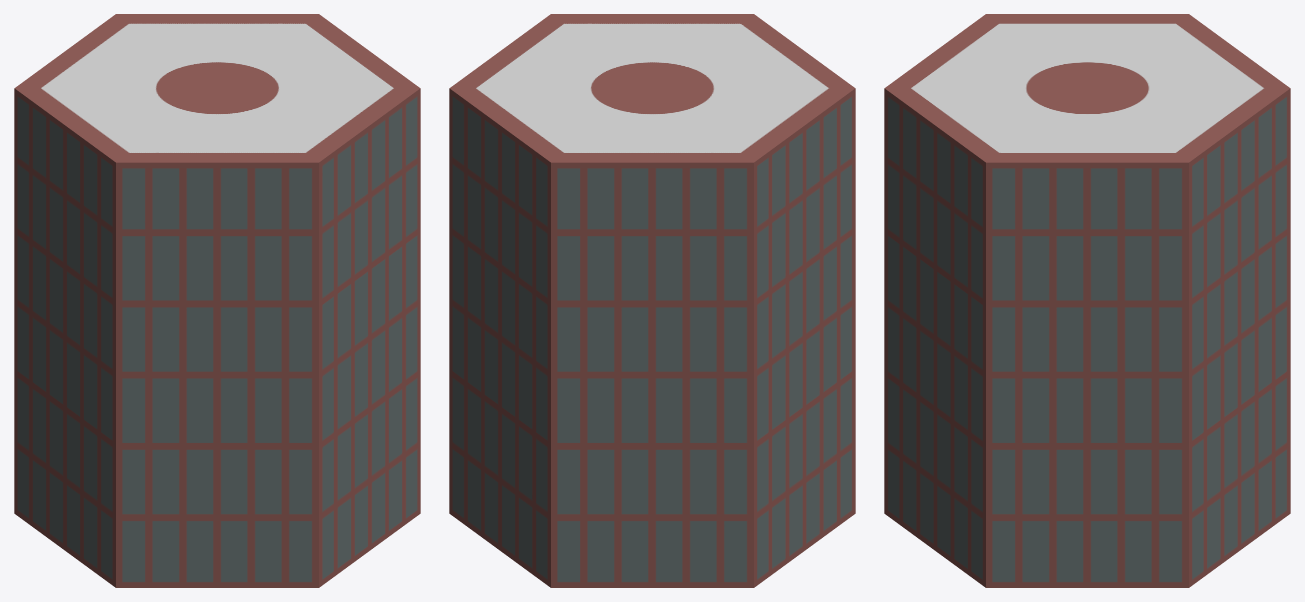
File: hexWallBlender 1.dae
3 views of the same model, side by side, from view 1: azimuth 30°, elevation 25°; view 2: azimuth 150°, elevation 25°; view 3: azimuth 270°, elevation 25° (orthographic).
Parts seen in each view (by area): view 1: hex; view 2: hex; view 3: hex.
Part boxes in pixels (box(x1,y1,x2,y2)): hex: box(14, 14, 420, 587); hex: box(449, 14, 855, 587); hex: box(884, 14, 1290, 587).
Size of the model in its own units: 1.73 by 2 by 2.31.
1 material, 1 textured.
